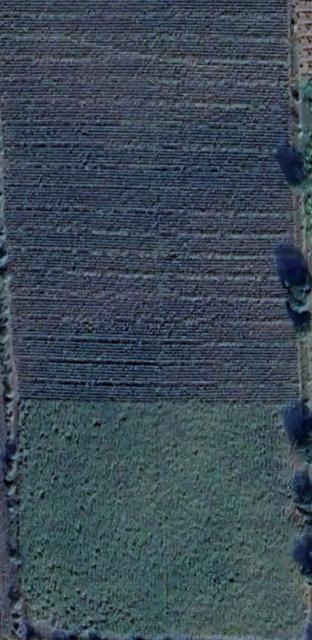Farms: (0, 1, 305, 395), (18, 399, 311, 636)
